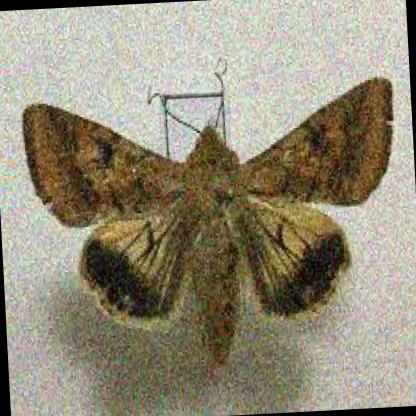helicoverpa: (24, 74, 394, 369)
